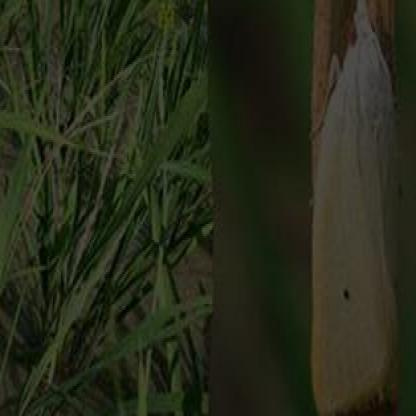stem-borer: (309, 0, 403, 416)
